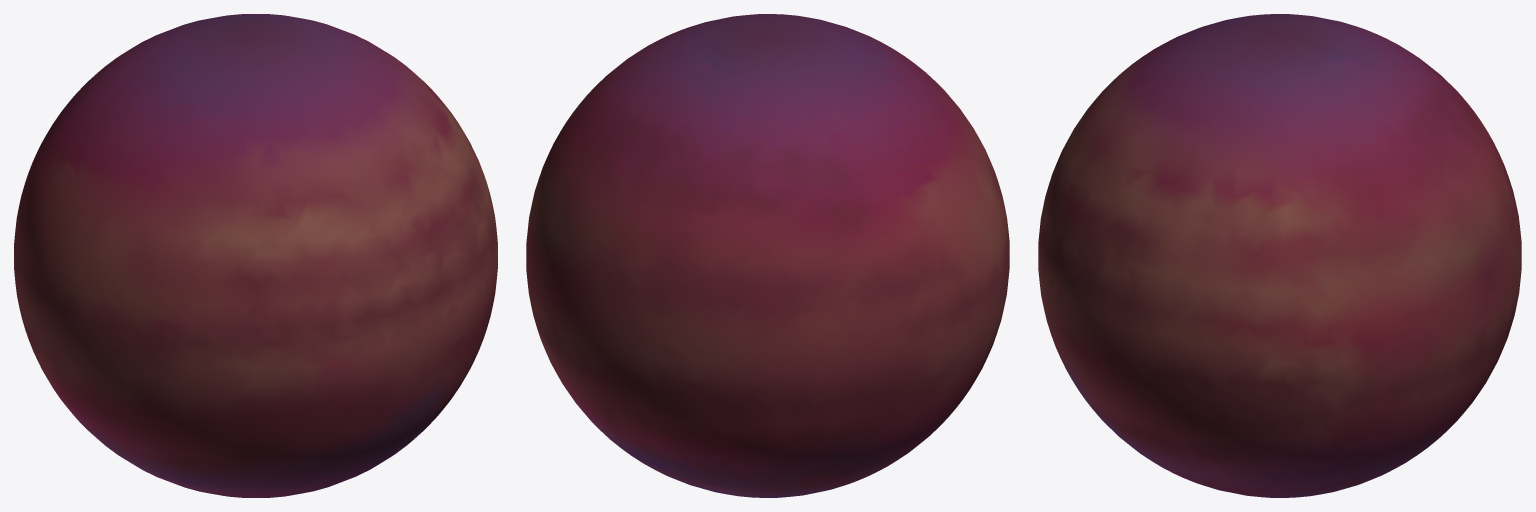
The model's file is planet_gas_giant.fbx.
3 renders of one model, left to right at view 1: azimuth 30°, elevation 25°; view 2: azimuth 150°, elevation 25°; view 3: azimuth 270°, elevation 25°, orthographic.
Visible parts, largest first — view 1: planet_gas_giant; view 2: planet_gas_giant; view 3: planet_gas_giant.
Part boxes in pixels (box(x1,y1,x2,y2)): planet_gas_giant: box(14, 14, 497, 497); planet_gas_giant: box(526, 14, 1009, 497); planet_gas_giant: box(1038, 14, 1521, 497).
Size of the model in its own units: 184 by 184 by 184.
